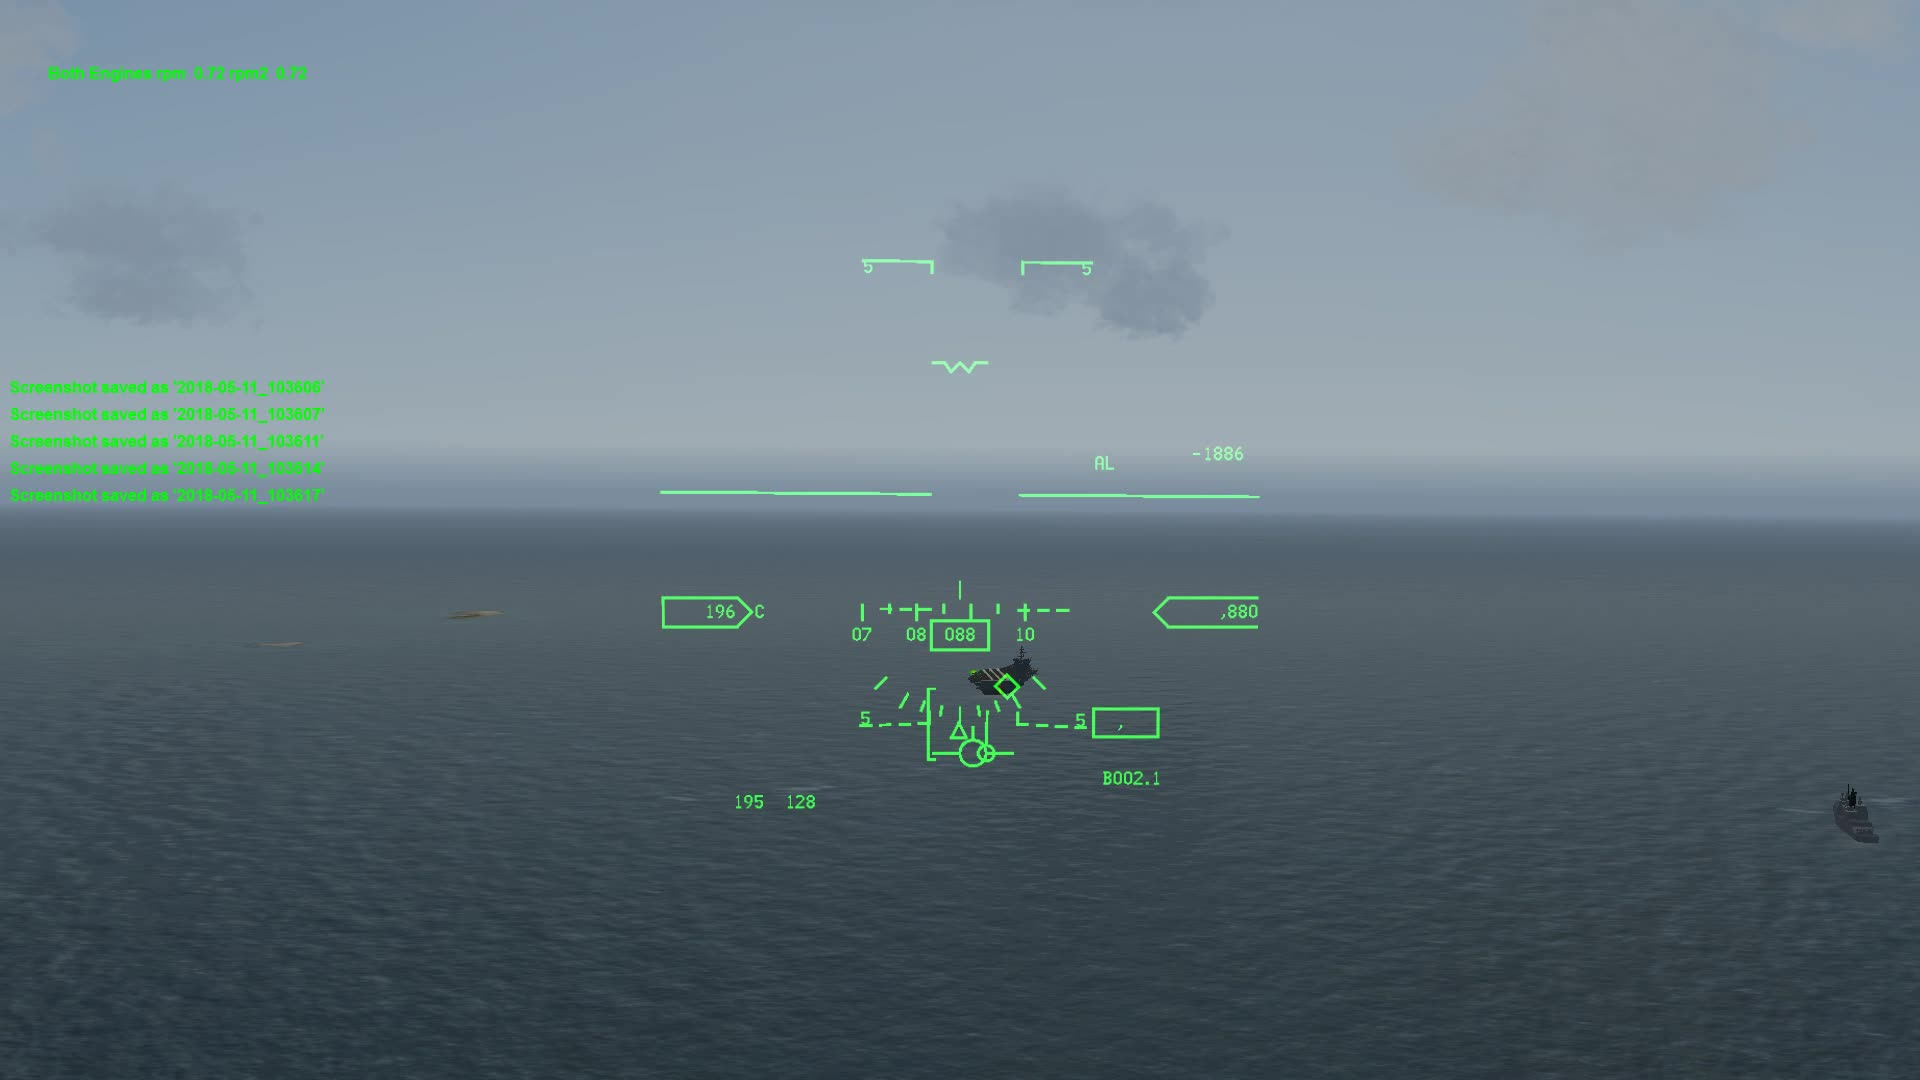speed vector: (951, 727, 1007, 782)
